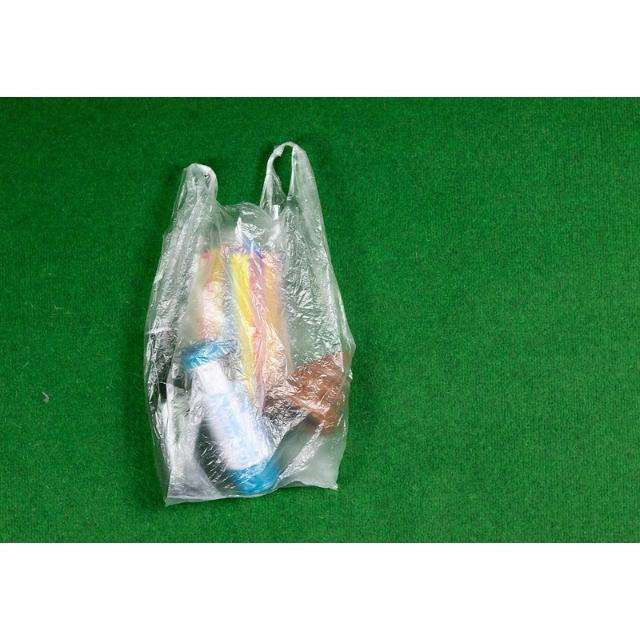plastic: (145, 142, 354, 504)
